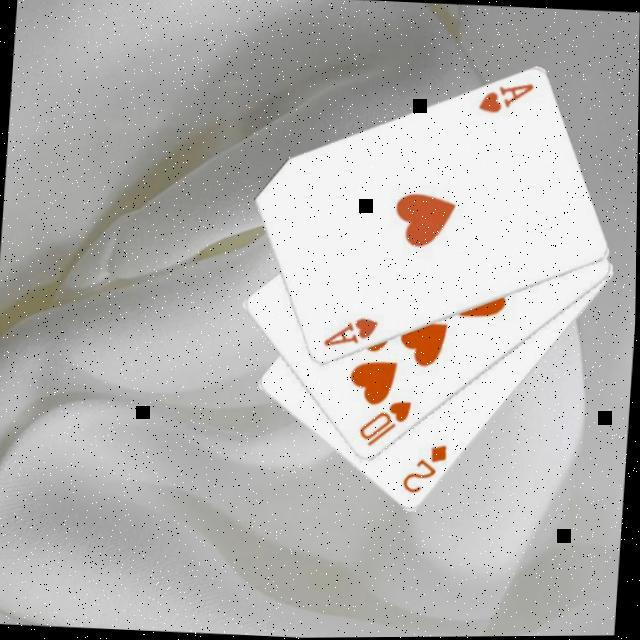10H: (357, 398, 417, 453)
2D: (400, 442, 453, 500)
AH: (476, 79, 538, 120), (321, 315, 383, 354)
